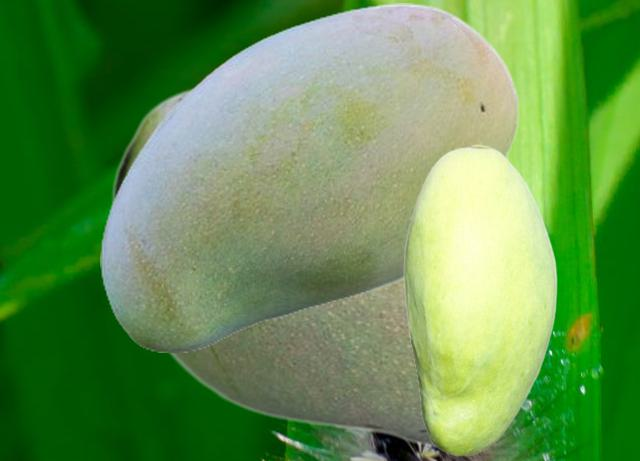green_mango: (111, 85, 548, 447), (100, 3, 519, 351), (403, 144, 556, 455)
